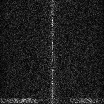wifi: (1, 98, 104, 103)
